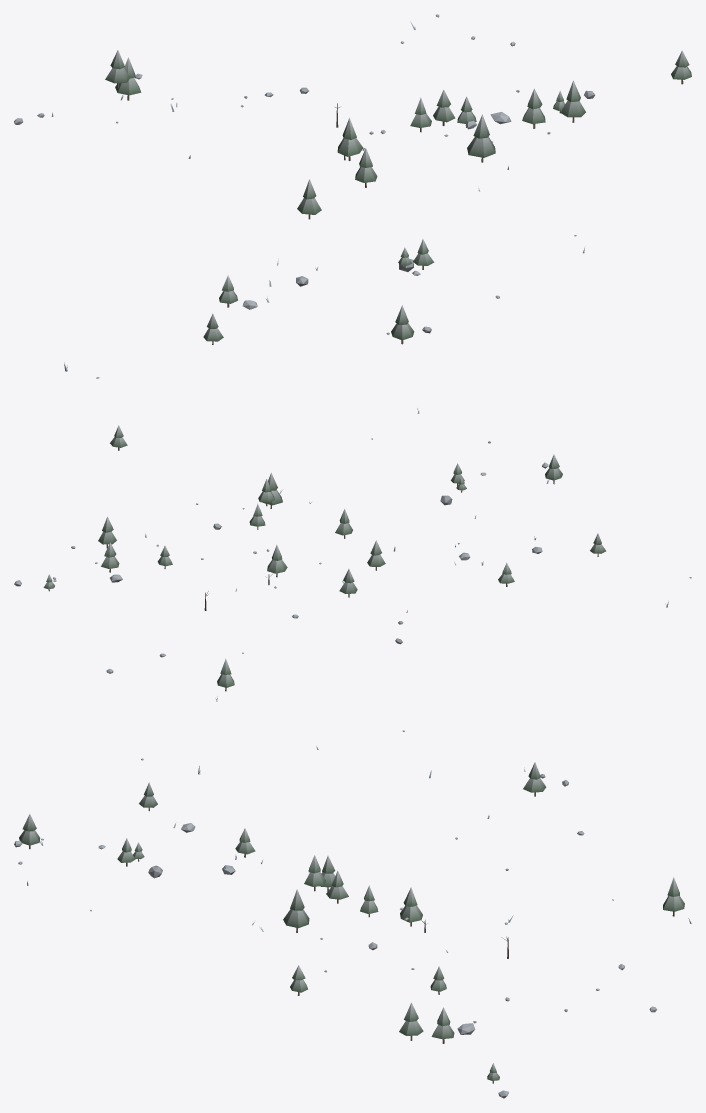
File: frost_land_scatter_c12_09_lod1.glb
3 views of the same model, one above another, from view 1: azimuth 30°, elevation 25°; view 2: azimuth 150°, elevation 25°; view 3: azimuth 270°, elevation 25° (orthographic). The views are drawn at different scales.
Visible parts, largest first — view 1: frost_land_scatter_c12_09_lod1; view 2: frost_land_scatter_c12_09_lod1; view 3: frost_land_scatter_c12_09_lod1.
Part boxes in pixels (x1=…): frost_land_scatter_c12_09_lod1: x1=14, y1=14, x2=691, y2=378; frost_land_scatter_c12_09_lod1: x1=14, y1=408, x2=691, y2=701; frost_land_scatter_c12_09_lod1: x1=14, y1=730, x2=691, y2=1098.
Size of the model in its own units: 236 by 49.29 by 218.
